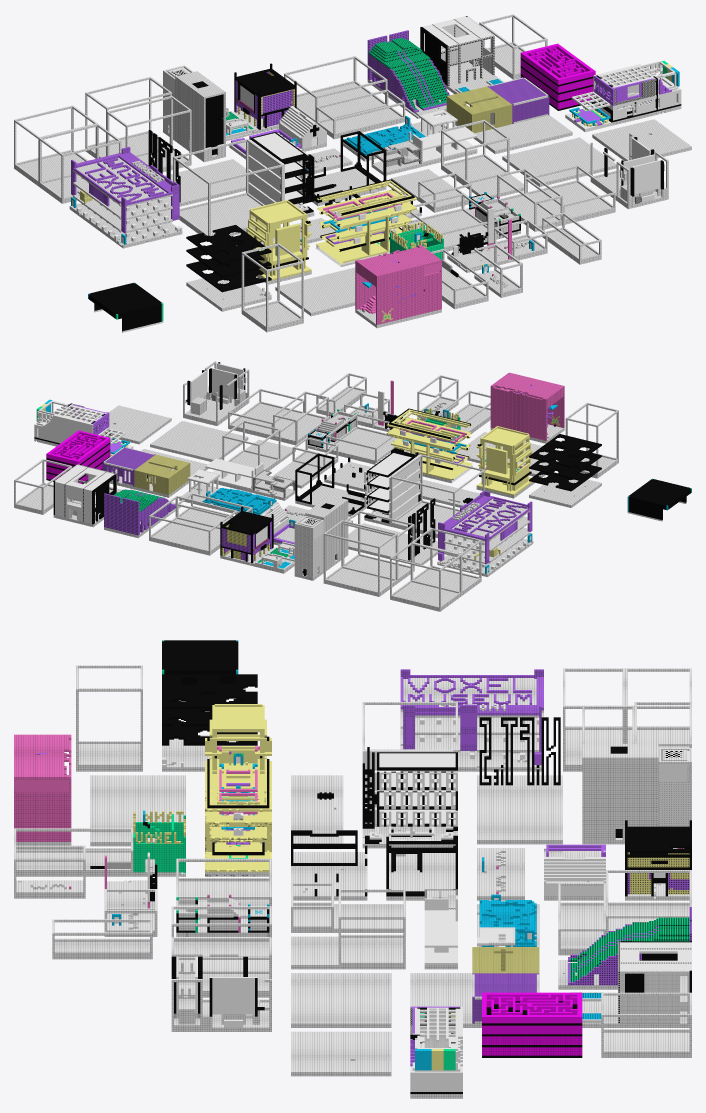
File: Midtown-v2.glb
The picture shows the model from 3 angles, top to bottom: view 1: azimuth 30°, elevation 25°; view 2: azimuth 150°, elevation 25°; view 3: azimuth 270°, elevation 25°; orthographic projection. The views are drawn at different scales.
Visible parts, largest first — view 1: solid-voxels_36.013; view 2: solid-voxels_36.013; view 3: solid-voxels_36.013.
Part boxes in pixels (left/top/right/bottom): solid-voxels_36.013: left=14, top=14, right=691, bottom=332; solid-voxels_36.013: left=14, top=361, right=691, bottom=611; solid-voxels_36.013: left=14, top=640, right=691, bottom=1098.
Size of the model in its own units: 212 by 20.01 by 142.
1 material, 1 textured.
